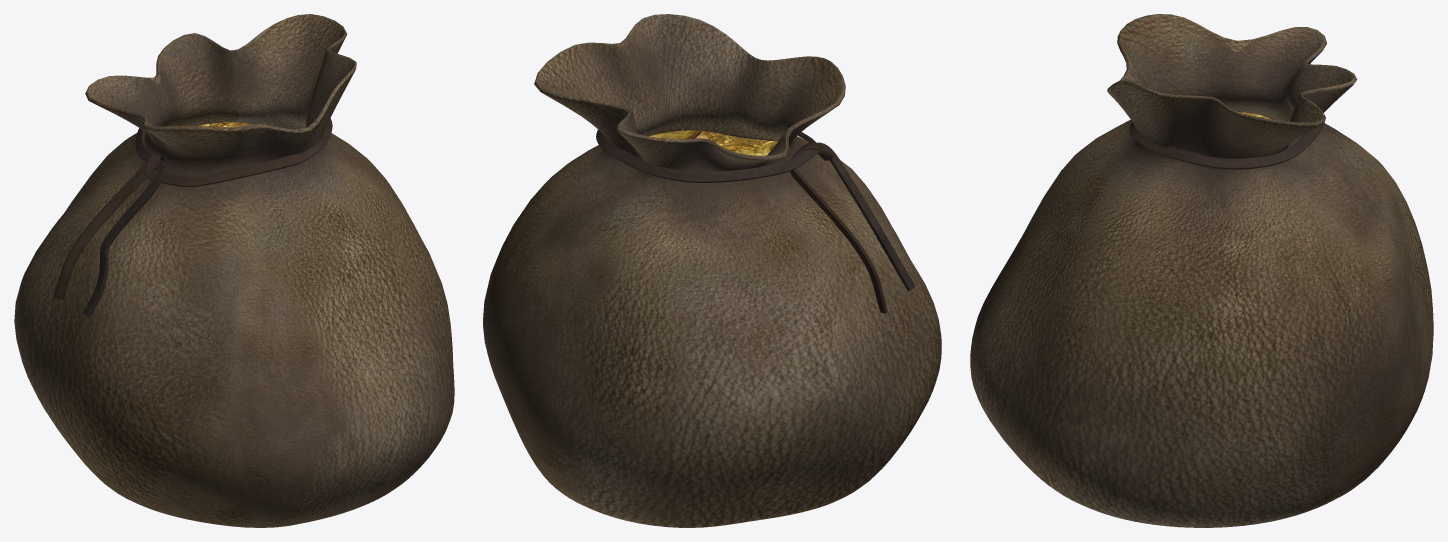
The model's file is BagOfGold.obj.
The picture shows the model from 3 angles, left to right: view 1: azimuth 30°, elevation 25°; view 2: azimuth 150°, elevation 25°; view 3: azimuth 270°, elevation 25°; orthographic projection. The views are drawn at different scales.
Parts seen in each view (by area): view 1: 13450_Bag_of_Gold_v1_L3; view 2: 13450_Bag_of_Gold_v1_L3; view 3: 13450_Bag_of_Gold_v1_L3.
Part boxes in pixels (left/top/right/bottom): 13450_Bag_of_Gold_v1_L3: left=14, top=14, right=454, bottom=527; 13450_Bag_of_Gold_v1_L3: left=483, top=14, right=941, bottom=527; 13450_Bag_of_Gold_v1_L3: left=970, top=14, right=1433, bottom=527.
Size of the model in its own units: 2.68 by 2.8 by 2.8.
Materials: 1 (1 with a texture image).
